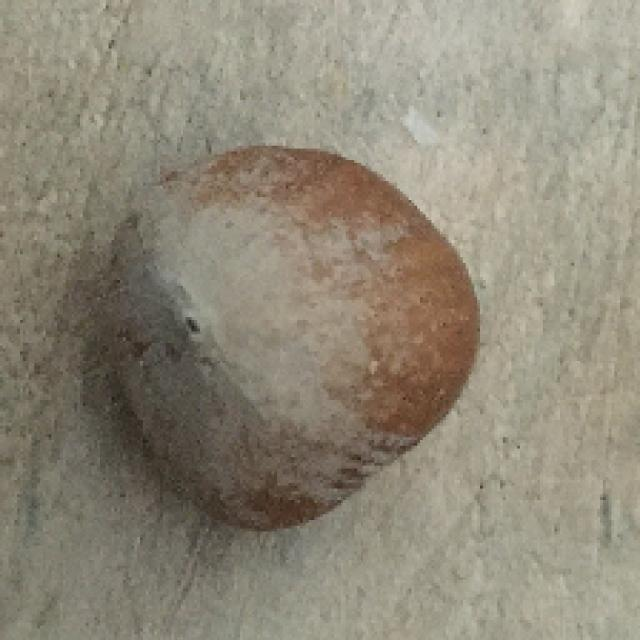qualityHazelnut: (101, 143, 477, 540)
